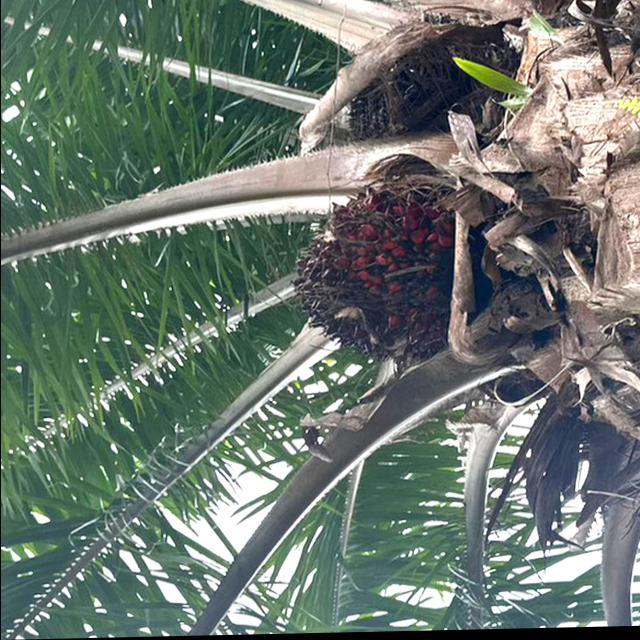ripe: (279, 165, 469, 377)
